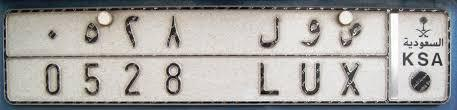0: (44, 29, 63, 97)
2: (122, 14, 144, 97)
5: (82, 22, 101, 96)
8: (163, 14, 185, 96)
L: (258, 16, 283, 97)
U: (300, 18, 323, 96)
X: (339, 22, 364, 98)
